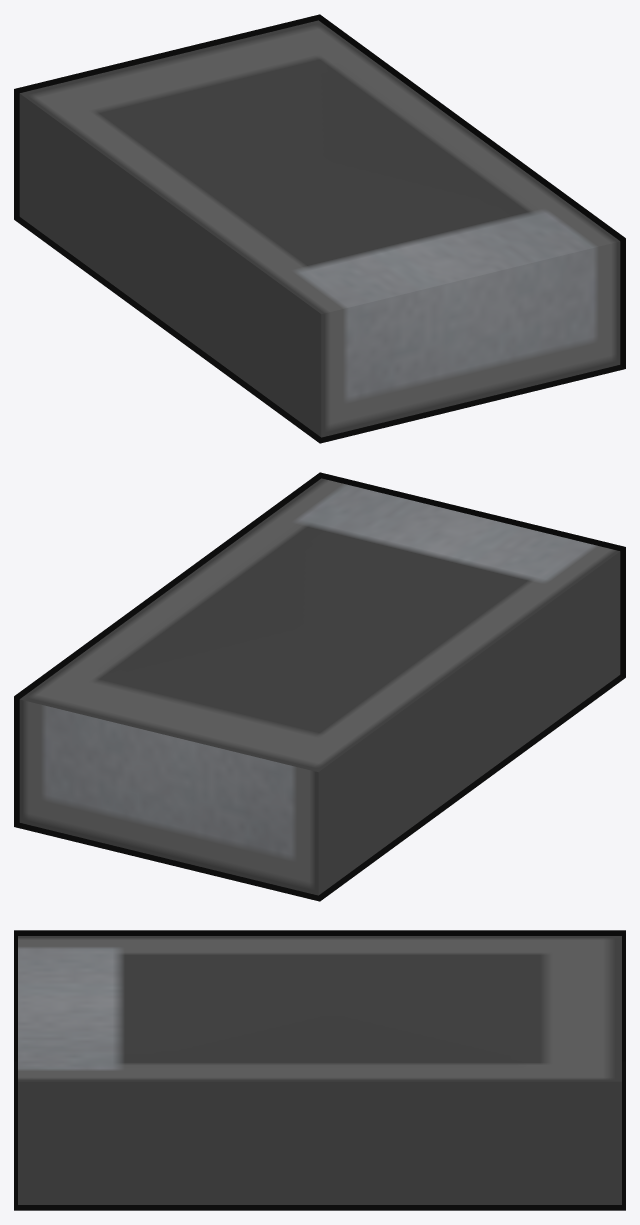
The model's file is Building_BabySleepingSpot_Things_Building_Childcare_BabySleepSpot.glb.
3 views of the same model, one above another, from view 1: azimuth 30°, elevation 25°; view 2: azimuth 150°, elevation 25°; view 3: azimuth 270°, elevation 25° (orthographic).
Parts seen in each view (by area): view 1: Body, Outline; view 2: Body, Outline; view 3: Body, Outline.
Part boxes in pixels (x1=…): Body: x1=19, y1=20, x2=620, y2=437; Outline: x1=14, y1=14, x2=625, y2=443; Body: x1=19, y1=478, x2=620, y2=895; Outline: x1=14, y1=472, x2=625, y2=901; Body: x1=18, y1=936, x2=621, y2=1204; Outline: x1=14, y1=930, x2=625, y2=1210.
Bounding box in the file's own units: 0.3918 × 0.1599 × 0.6787.
2 materials, 1 textured.
